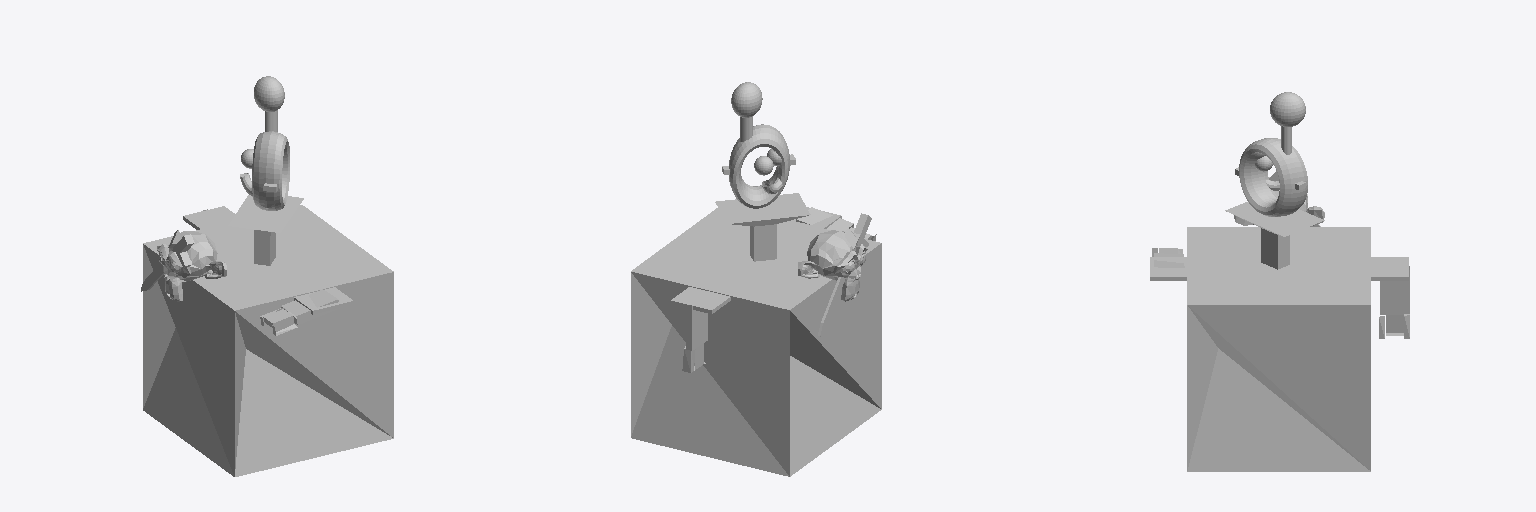
Rendered from Robot_000025.obj.
3 renders of one model, left to right at view 1: azimuth 30°, elevation 25°; view 2: azimuth 150°, elevation 25°; view 3: azimuth 270°, elevation 25°, orthographic.
Visible parts, largest first — view 1: Cube.001_Cube, Cube_Cube.001, Suzanne, Left_Hand.001_Cube.005, Cube.002_Cube.004, Sphere, Cube.003_Cube.006; view 2: Cube.001_Cube, Cube_Cube.001, Suzanne, Left_Hand_Cube.002, Cube.002_Cube.004, Cube.003_Cube.006, Sphere, Left_Hand.001_Cube.005; view 3: Cube.001_Cube, Cube_Cube.001, Left_Hand_Cube.002, Cube.002_Cube.004, Sphere.
Boxes of the visible parts, x1=… form: Cube.001_Cube: x1=143, y1=205, x2=393, y2=476; Cube_Cube.001: x1=228, y1=131, x2=303, y2=265; Suzanne: x1=157, y1=231, x2=226, y2=301; Left_Hand.001_Cube.005: x1=260, y1=289, x2=339, y2=335; Cube.002_Cube.004: x1=183, y1=206, x2=353, y2=314; Sphere: x1=254, y1=76, x2=284, y2=111; Cube.003_Cube.006: x1=141, y1=230, x2=194, y2=291; Cube.001_Cube: x1=631, y1=208, x2=881, y2=476; Cube_Cube.001: x1=715, y1=124, x2=810, y2=261; Suzanne: x1=798, y1=230, x2=867, y2=301; Left_Hand_Cube.002: x1=682, y1=305, x2=707, y2=372; Cube.002_Cube.004: x1=671, y1=207, x2=841, y2=313; Cube.003_Cube.006: x1=818, y1=213, x2=871, y2=336; Sphere: x1=731, y1=82, x2=762, y2=117; Left_Hand.001_Cube.005: x1=796, y1=207, x2=876, y2=240; Cube.001_Cube: x1=1187, y1=227, x2=1370, y2=471; Cube_Cube.001: x1=1225, y1=138, x2=1324, y2=269; Left_Hand_Cube.002: x1=1379, y1=266, x2=1409, y2=338; Cube.002_Cube.004: x1=1150, y1=257, x2=1408, y2=280; Sphere: x1=1270, y1=92, x2=1305, y2=126.
Bounding box in the file's own units: 2.3 × 4.1 × 2.83.